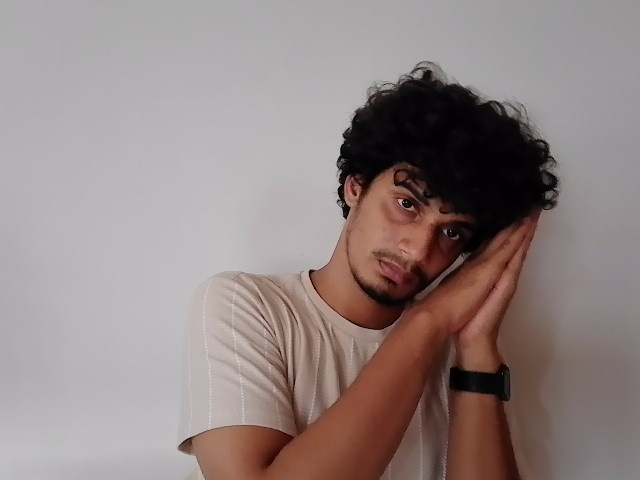sleep: (402, 203, 542, 343)
